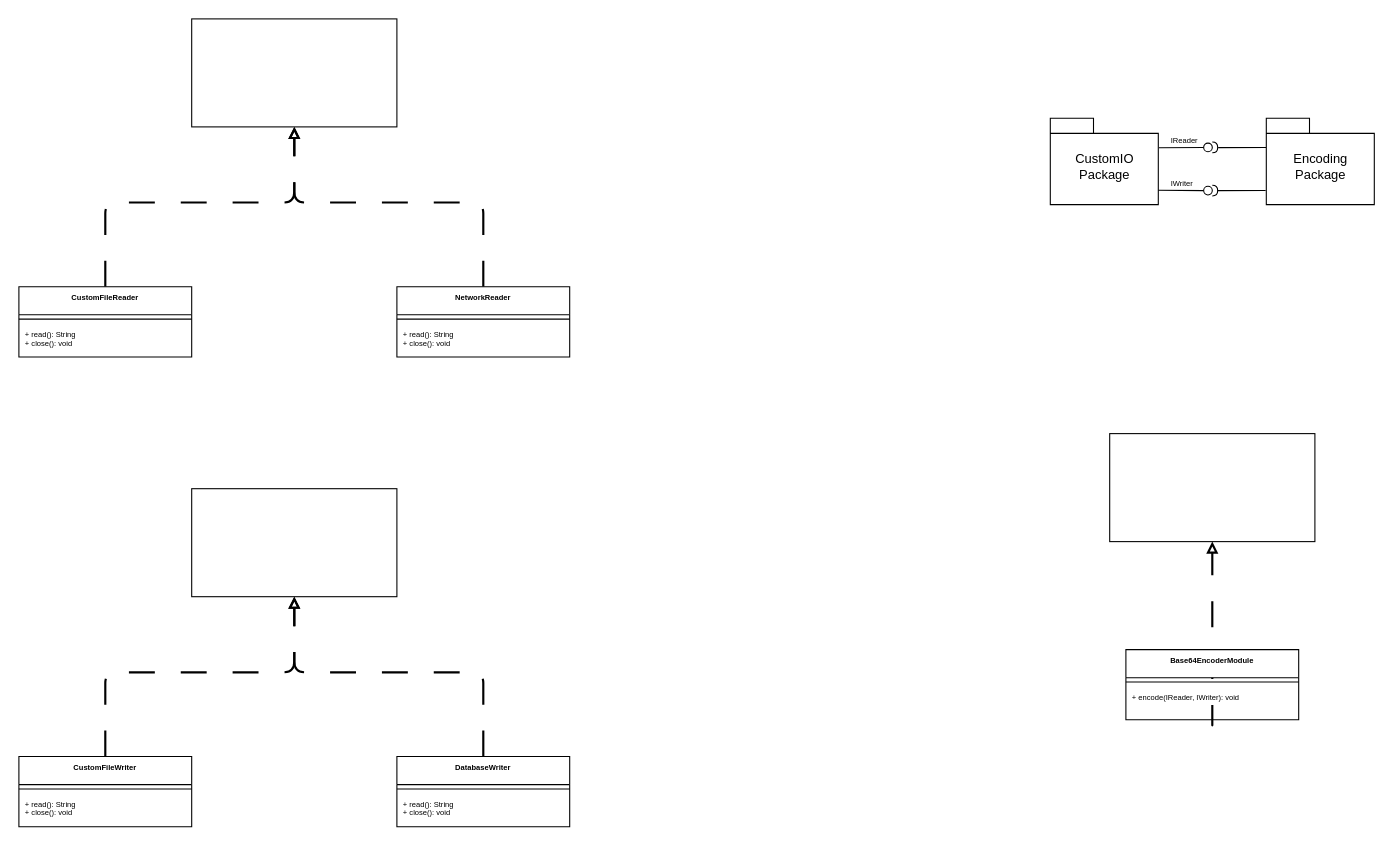
Some shapes in this 1393 by 849 pixel diagram are drawn without their labels. Here are the shapes that lost their labels. From the top down, the centre of each, then its label:
At point 294,72: "<<Interface>> IReader + read(): String + close(): void".
At point 1212,487: "<<Interface>> IEncoder + encode(IReader, IWriter): void".
At point 294,542: "<<Interface>> IWriter + write(String buff): void + close(): void".
